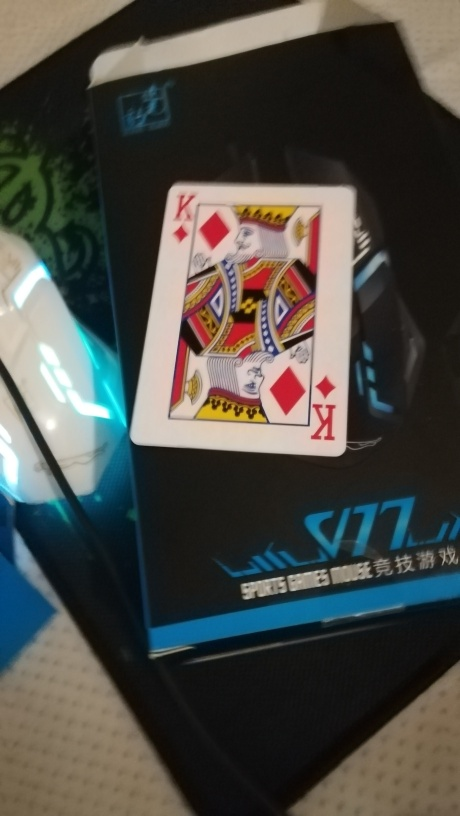fk k: (127, 179, 356, 459)
